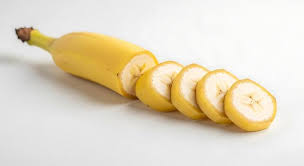banana: (6, 15, 286, 142)
